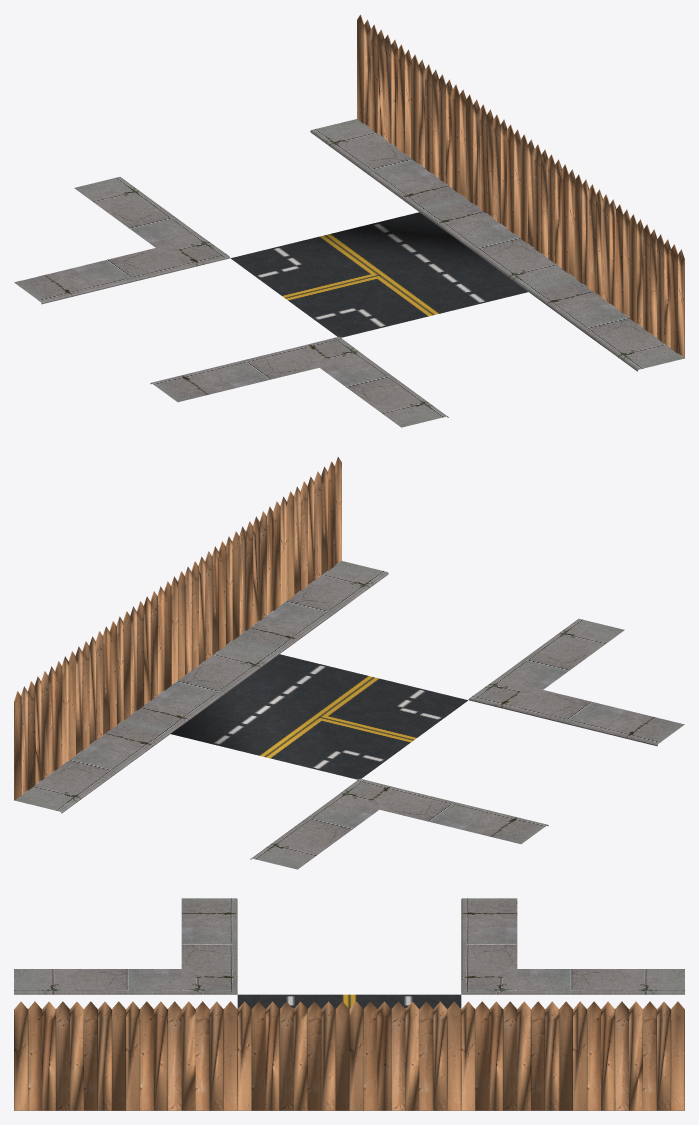
The model's file is road_intersection_fence_0_1_0.obj.
3 views of the same model, one above another, from view 1: azimuth 30°, elevation 25°; view 2: azimuth 150°, elevation 25°; view 3: azimuth 270°, elevation 25° (orthographic). The views are drawn at different scales.
Parts seen in each view (by area): view 1: ROAD_TILE_Plane.016; view 2: ROAD_TILE_Plane.016; view 3: ROAD_TILE_Plane.016.
Part boxes in pixels (box(x1,y1,x2,y2)): ROAD_TILE_Plane.016: box(14, 14, 684, 427); ROAD_TILE_Plane.016: box(14, 457, 684, 869); ROAD_TILE_Plane.016: box(14, 898, 684, 1110).
Size of the model in its own units: 45 by 11.01 by 60.01.
